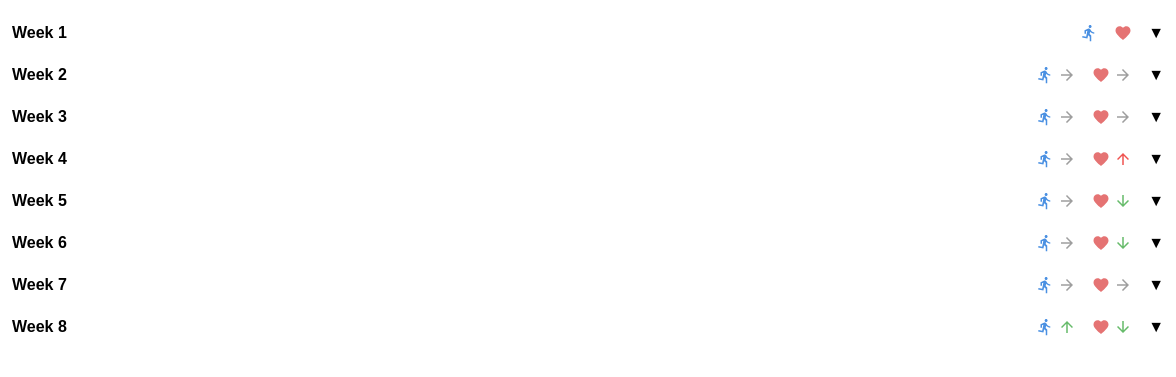
Test case: RunnerDashboard — enforce-visual-theme Gherkin scenarios › Scenario 3: Skipped activity marker has data-activity-type="skipped" › skipped-activity in Week 4 has data-activity-type="skipped"
Click the button "Week 4 ▼": (39, 158) [12,138,1164,180]
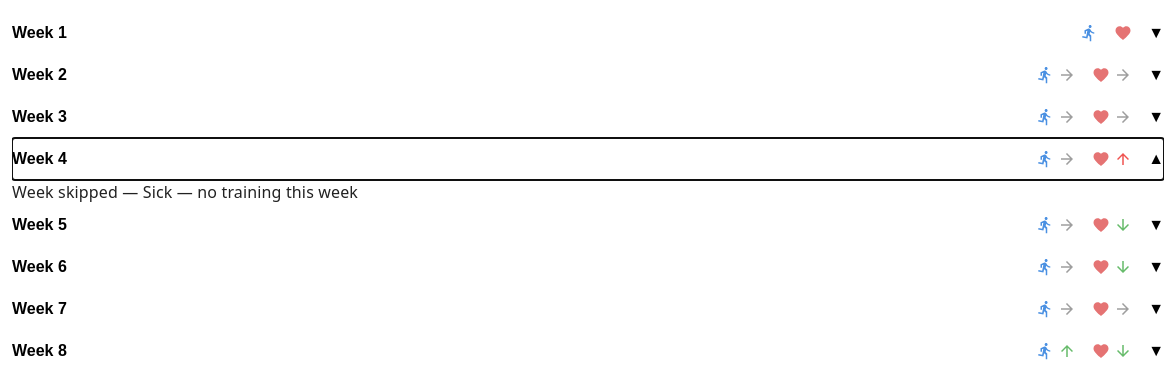
expect the text "Week skipped — Sick — no training this week" is shown: met, box [12,181,358,203]
